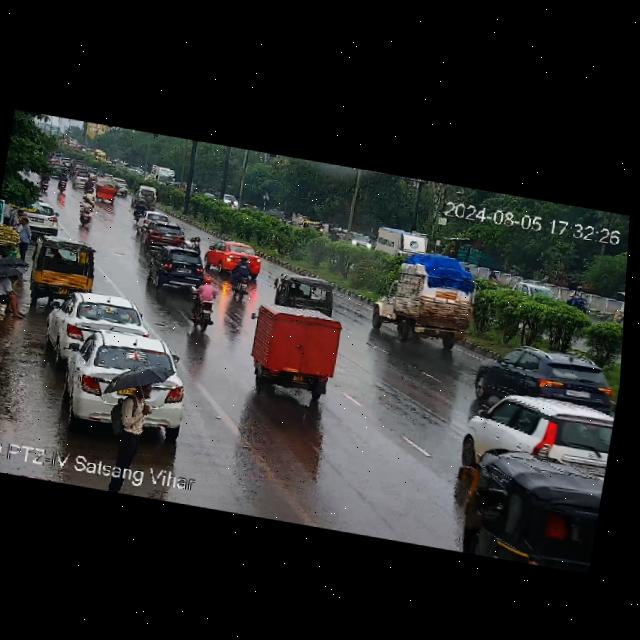car: (456, 382, 616, 486), (466, 334, 622, 417), (241, 300, 351, 406), (58, 324, 184, 416), (48, 289, 150, 365), (25, 233, 101, 306), (269, 269, 339, 315), (151, 243, 211, 292), (206, 237, 266, 276), (8, 197, 61, 233), (139, 219, 188, 252), (511, 277, 560, 301), (92, 176, 118, 208), (127, 182, 160, 206), (108, 176, 130, 193)
motorcycle: (442, 435, 608, 574), (184, 271, 220, 333), (227, 254, 258, 303), (76, 195, 102, 226), (567, 285, 592, 313), (70, 172, 96, 192), (36, 170, 54, 190), (131, 198, 148, 219), (55, 175, 71, 194)
person: (107, 378, 165, 465), (0, 269, 35, 321), (5, 212, 38, 258)
truck: (366, 266, 479, 356), (372, 227, 423, 263)
